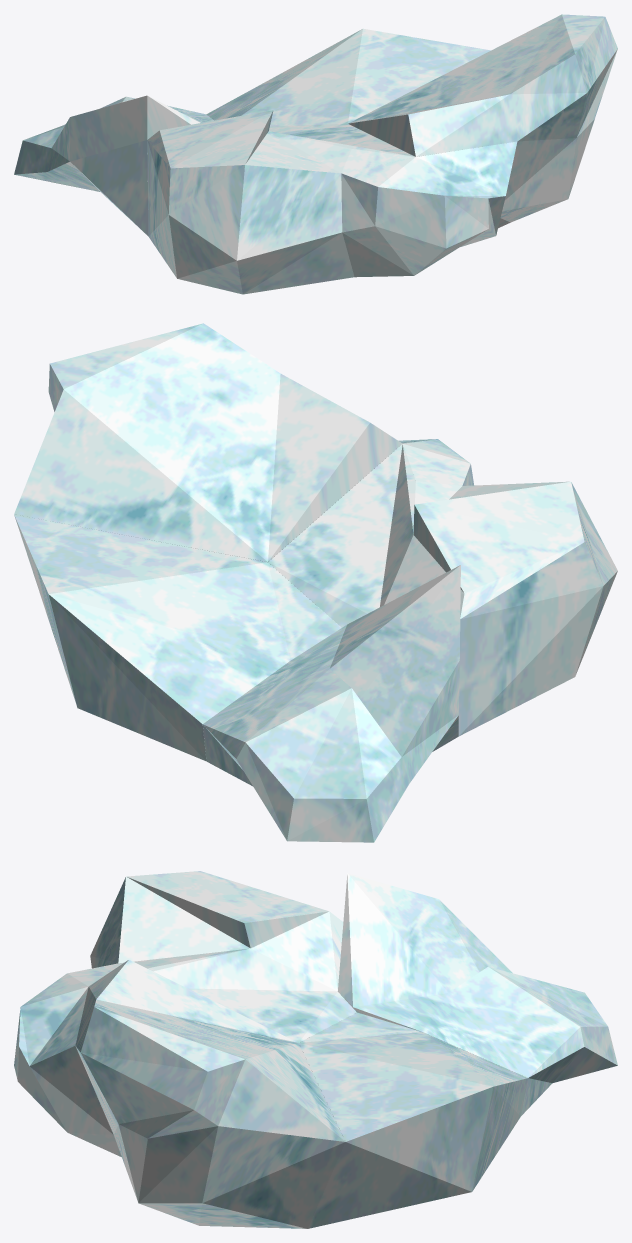
Rendered from C1SNICECHUNKMED_H.bgf.obj.
3 views of the same model, one above another, from view 1: azimuth 30°, elevation 25°; view 2: azimuth 150°, elevation 25°; view 3: azimuth 270°, elevation 25° (orthographic). The views are drawn at different scales.
Visible parts, largest first — view 1: OBJECT02, OBJECT04, ROOT, OBJECT03, OBJECT01; view 2: OBJECT04, OBJECT02, OBJECT03, OBJECT01, ROOT; view 3: OBJECT04, OBJECT03, OBJECT01, OBJECT02, ROOT.
Part boxes in pixels (x1=…): OBJECT02: x1=147, y1=110, x2=414, y2=294; OBJECT04: x1=348, y1=14, x2=617, y2=228; ROOT: x1=341, y1=141, x2=517, y2=277; OBJECT03: x1=206, y1=28, x2=490, y2=134; OBJECT01: x1=14, y1=95, x2=213, y2=235; OBJECT04: x1=14, y1=323, x2=402, y2=583; OBJECT02: x1=268, y1=444, x2=617, y2=736; OBJECT03: x1=14, y1=514, x2=341, y2=761; OBJECT01: x1=203, y1=565, x2=460, y2=842; ROOT: x1=297, y1=439, x2=474, y2=604; OBJECT04: x1=75, y1=960, x2=345, y2=1228; OBJECT03: x1=299, y1=1012, x2=527, y2=1228; OBJECT01: x1=338, y1=873, x2=617, y2=1115; OBJECT02: x1=90, y1=871, x2=356, y2=1042; ROOT: x1=14, y1=963, x2=121, y2=1156.
Size of the model in its own units: 7.48 by 3.24 by 7.36.
5 materials, 5 textured.
